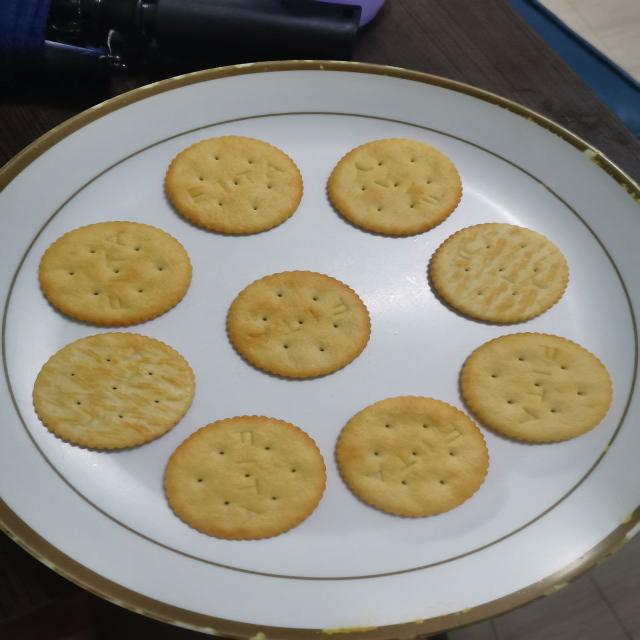intact biscuit: (162, 413, 326, 541), (31, 330, 196, 450), (333, 394, 490, 518), (458, 331, 613, 444), (36, 219, 192, 327), (225, 269, 372, 379), (426, 220, 570, 324), (163, 134, 304, 235), (326, 136, 464, 236)
